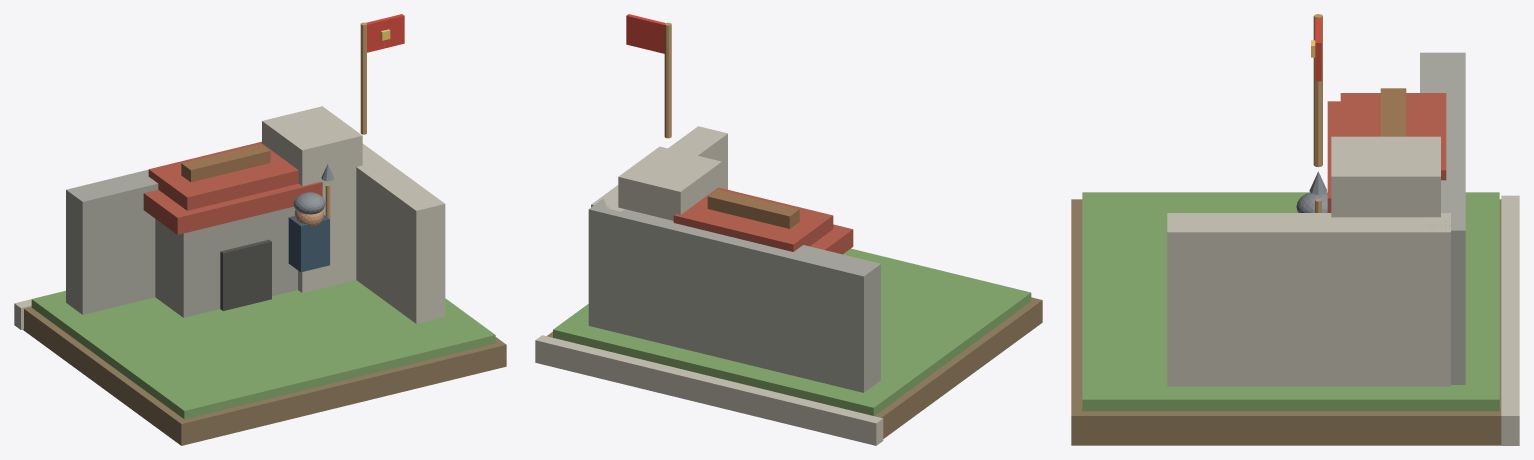
Rendered from 06_O_Quan_DaiThanh.glb.
3 renders of one model, left to right at view 1: azimuth 30°, elevation 25°; view 2: azimuth 150°, elevation 25°; view 3: azimuth 270°, elevation 25°, orthographic. The views are drawn at different scales.
Visible parts, largest first — view 1: grass, soil, side, rear, tower, gatehouse, roof2, roof, opening, body, ridge, flag (+2 smaller); view 2: rear, grass, border, tower, soil, roof2, ridge, side, flag, pole, roof; view 3: side, grass, soil, tower, rear, border, roof2, ridge, pole, roof, helmet, flag.
Boxes of the visible parts, <box> form: grass: <box>31,280,495,419</box>; soil: <box>23,307,506,445</box>; side: <box>356,143,445,323</box>; rear: <box>66,169,158,314</box>; tower: <box>262,106,362,292</box>; gatehouse: <box>155,206,297,317</box>; roof2: <box>148,141,298,210</box>; roof: <box>143,181,322,234</box>; opening: <box>220,239,271,310</box>; body: <box>288,215,329,272</box>; ridge: <box>181,144,270,182</box>; flag: <box>366,14,404,52</box>; rear: <box>588,199,880,392</box>; grass: <box>553,248,1031,415</box>; border: <box>535,335,883,445</box>; tower: <box>618,146,721,220</box>; soil: <box>547,297,1042,438</box>; roof2: <box>673,187,833,251</box>; ridge: <box>707,189,799,228</box>; side: <box>591,126,727,211</box>; flag: <box>626,14,665,53</box>; pole: <box>664,22,671,138</box>; roof: <box>810,224,853,254</box>; side: <box>1167,213,1450,386</box>; grass: <box>1082,192,1499,411</box>; soil: <box>1071,199,1501,445</box>; tower: <box>1331,136,1440,217</box>; rear: <box>1420,52,1465,384</box>; border: <box>1501,195,1519,445</box>; roof2: <box>1340,93,1446,180</box>; ridge: <box>1380,88,1406,136</box>; pole: <box>1313,14,1322,167</box>; roof: <box>1327,101,1340,212</box>; helmet: <box>1296,192,1327,212</box>; flag: <box>1315,18,1321,81</box>.
Bounding box in the file's own units: 2.85 × 2.38 × 2.45.
